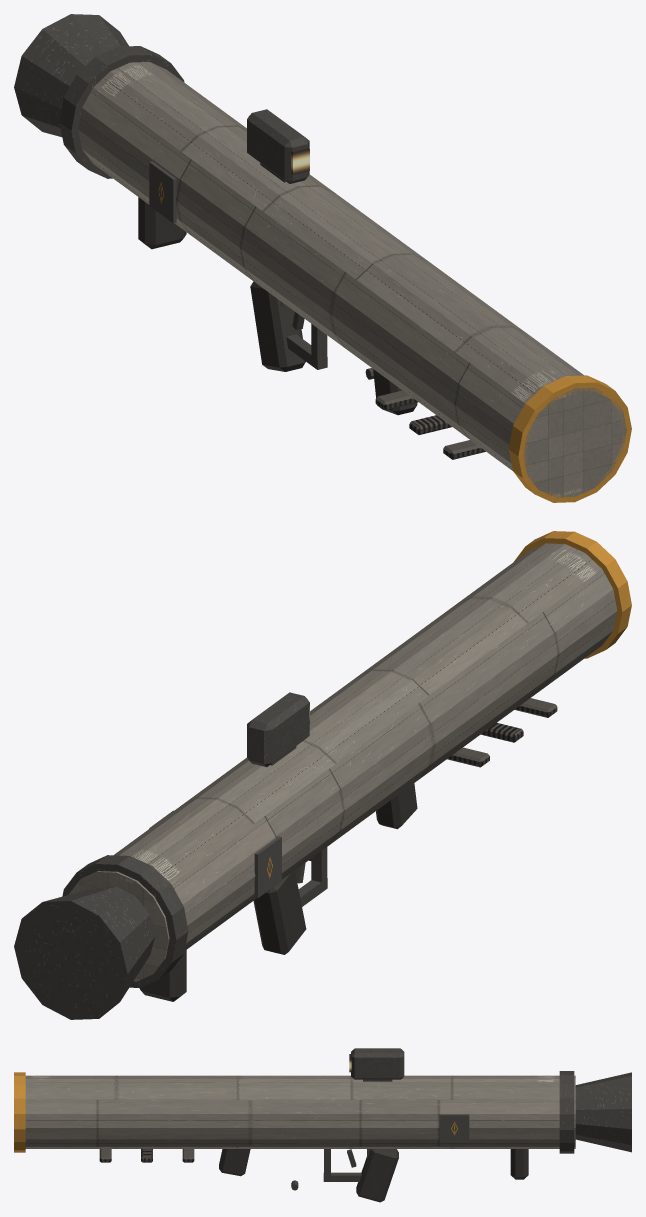
The model's file is np_launcher.obj.
3 views of the same model, one above another, from view 1: azimuth 30°, elevation 25°; view 2: azimuth 150°, elevation 25°; view 3: azimuth 270°, elevation 25° (orthographic). The views are drawn at different scales.
Parts seen in each view (by area): view 1: np_launcher; view 2: np_launcher; view 3: np_launcher.
Boxes of the visible parts, box(x1,y1,x2,y2) form: np_launcher: box(14, 14, 631, 502); np_launcher: box(14, 531, 631, 1019); np_launcher: box(14, 1048, 631, 1202).
Size of the model in its own units: 0.14 by 0.2785 by 1.05.
1 material, 1 textured.
